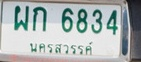txt01: (31, 6, 48, 32)
txt23: (13, 5, 30, 32)
